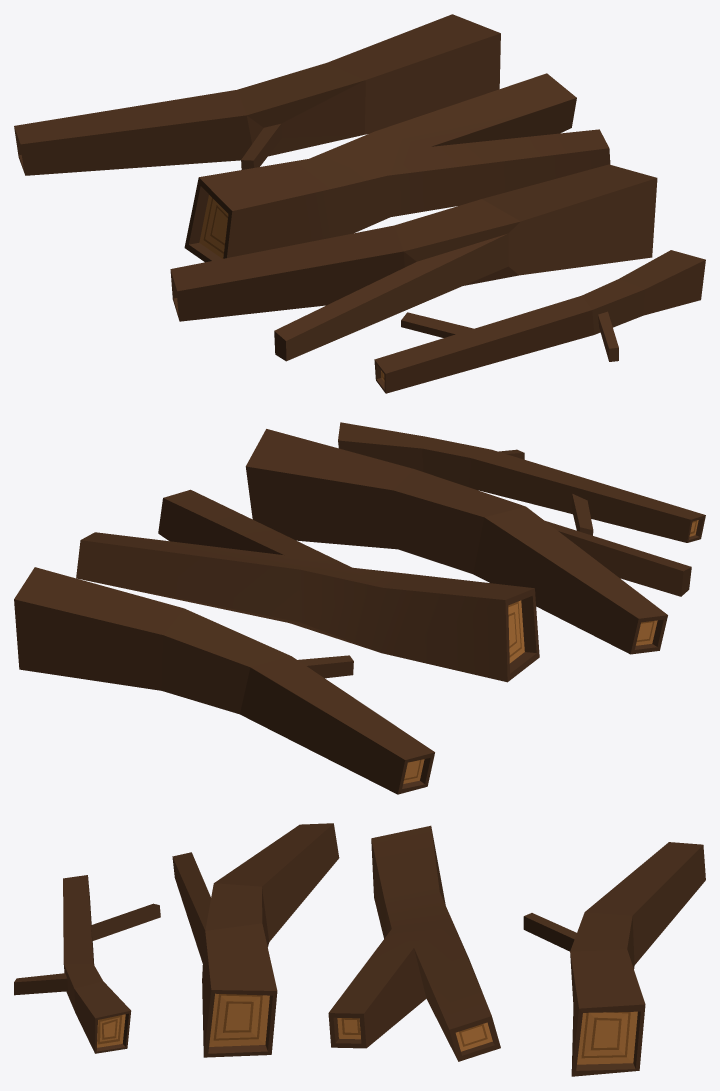
Rendered from Гілки.fbx.
3 views of the same model, one above another, from view 1: azimuth 30°, elevation 25°; view 2: azimuth 150°, elevation 25°; view 3: azimuth 270°, elevation 25° (orthographic). The views are drawn at different scales.
Parts seen in each view (by area): view 1: Плоскость.005, Плоскость.004, Плоскость.006, Плоскость.007; view 2: Плоскость.005, Плоскость.004, Плоскость.006, Плоскость.007; view 3: Плоскость.004, Плоскость.005, Плоскость.006, Плоскость.007.
Boxes of the visible parts, <box> form: Плоскость.005: <box>170,164,657,361</box>; Плоскость.004: <box>184,73,610,262</box>; Плоскость.006: <box>14,14,500,175</box>; Плоскость.007: <box>374,250,705,393</box>; Плоскость.005: <box>245,429,691,654</box>; Плоскость.004: <box>76,489,539,682</box>; Плоскость.006: <box>14,567,434,794</box>; Плоскость.007: <box>338,422,705,542</box>; Плоскость.004: <box>328,825,500,1061</box>; Плоскость.005: <box>172,823,339,1057</box>; Плоскость.006: <box>523,842,705,1076</box>; Плоскость.007: <box>14,875,160,1053</box>.
Bounding box in the file's own units: 10028 × 1581 × 13031.
